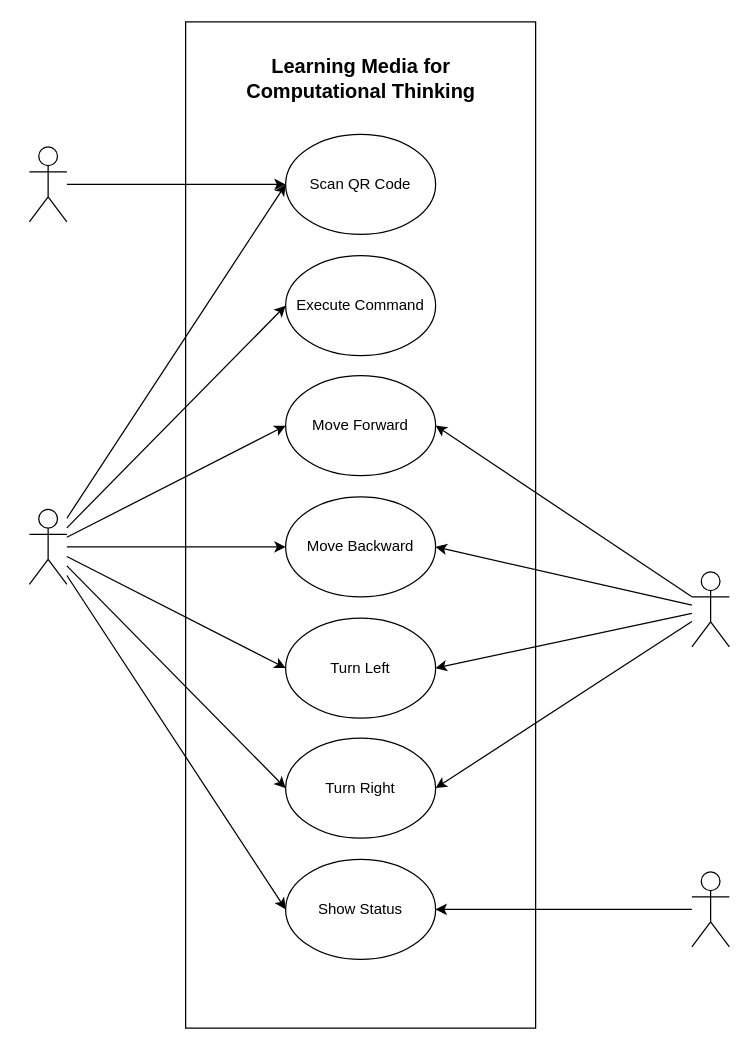
The diagram is 751 pixels wide and 1050 high, and some of its shapes have lost their labels. The centre of each missing label's shape, as x and y in pixels:
Camera: point (47, 184)
ESP32: point (47, 546)
LED: point (710, 909)
Motor: point (710, 609)
